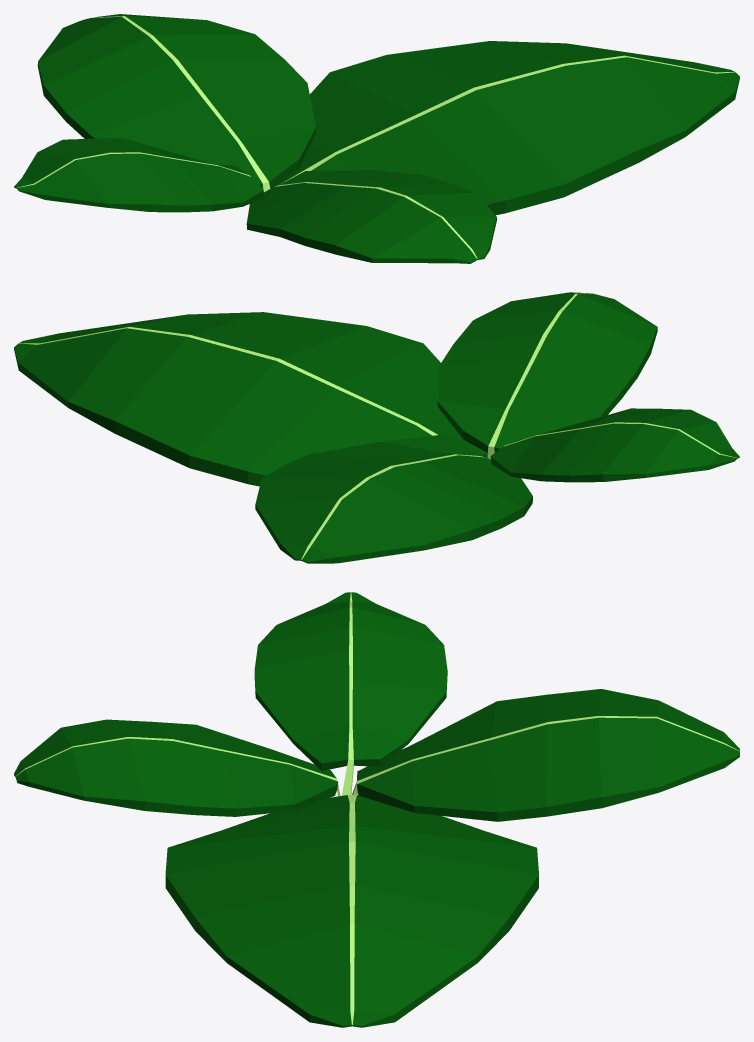
Rendered from basil02.gltf.
The picture shows the model from 3 angles, top to bottom: view 1: azimuth 30°, elevation 25°; view 2: azimuth 150°, elevation 25°; view 3: azimuth 270°, elevation 25°; orthographic projection. The views are drawn at different scales.
Parts seen in each view (by area): view 1: Cylinder.001; view 2: Cylinder.001; view 3: Cylinder.001.
Part boxes in pixels (<box>): Cylinder.001: <box>14,14,739,263</box>; Cylinder.001: <box>14,292,739,563</box>; Cylinder.001: <box>14,592,739,1027</box>.
Bounding box in the file's own units: 0.1121 × 0.0147 × 0.093.
1 material, 1 textured.
